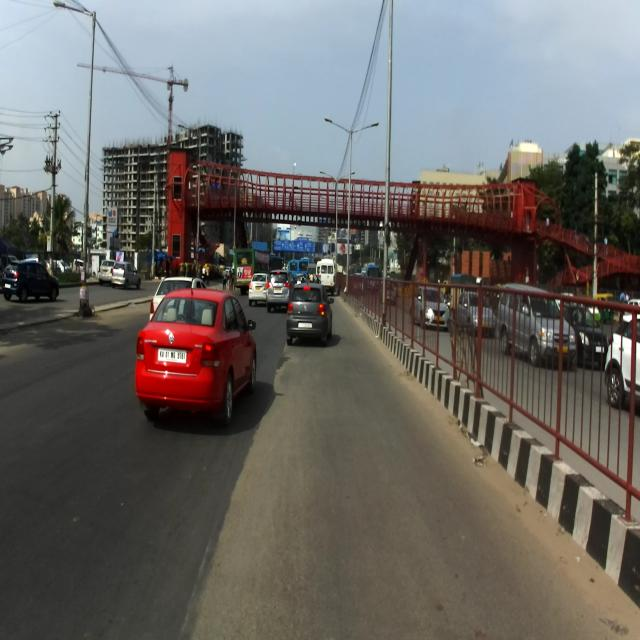car ahead at: (137, 285, 259, 422), (286, 285, 332, 339)
electric pole ahead at: (81, 3, 100, 316)
